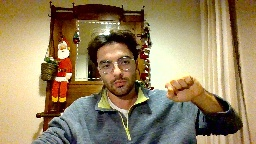Pugno: (164, 74, 206, 105)
